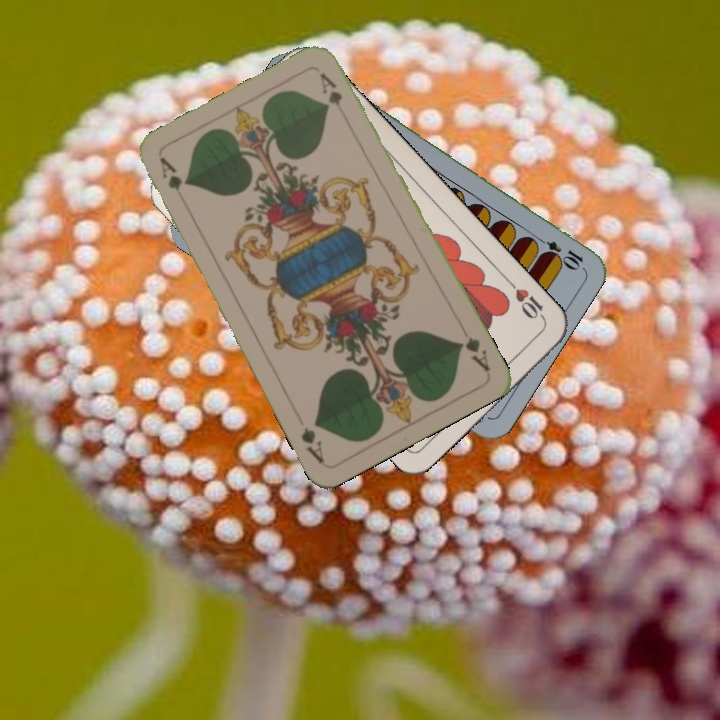E10: (530, 232, 586, 271)
GA: (455, 332, 493, 375), (155, 153, 185, 194)
H10: (504, 277, 549, 325)
